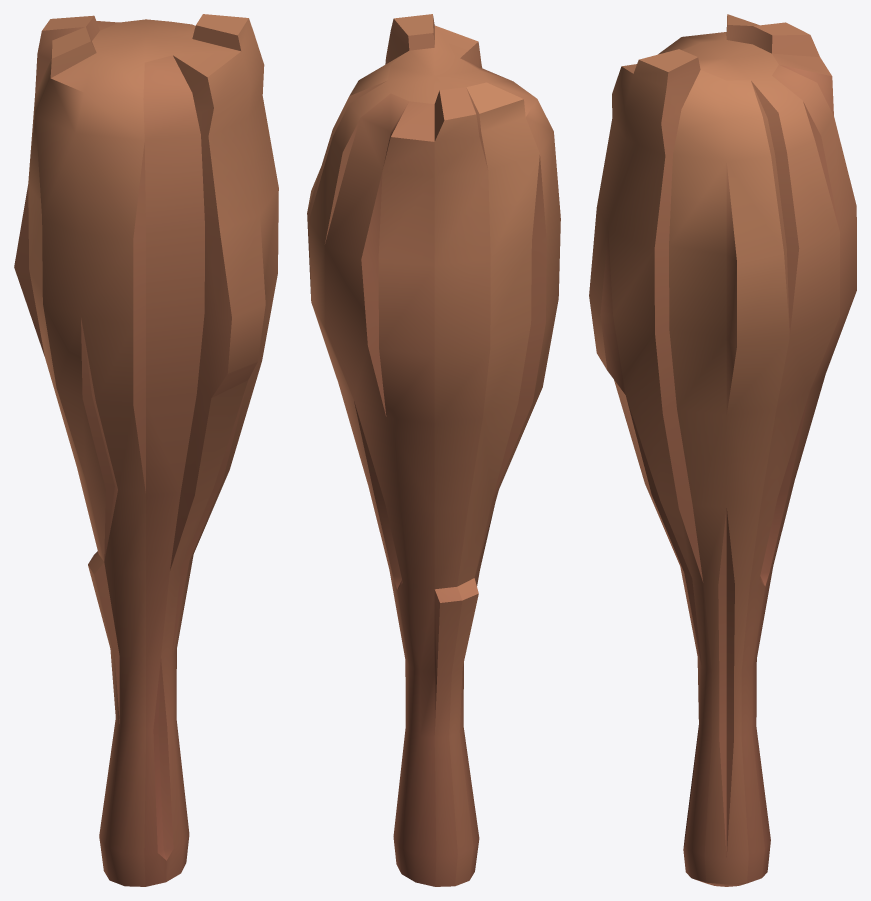
Rendered from Caveman_Club.obj.
The picture shows the model from 3 angles, left to right: view 1: azimuth 30°, elevation 25°; view 2: azimuth 150°, elevation 25°; view 3: azimuth 270°, elevation 25°; orthographic projection. The views are drawn at different scales.
Parts seen in each view (by area): view 1: Caveman_Club; view 2: Caveman_Club; view 3: Caveman_Club.
Part boxes in pixels (box(x1,y1,x2,y2)): Caveman_Club: box(14, 14, 278, 886); Caveman_Club: box(307, 14, 560, 886); Caveman_Club: box(589, 14, 856, 886).
Bounding box in the file's own units: 0.5419 × 1.9 × 0.545.
1 material, 1 textured.
